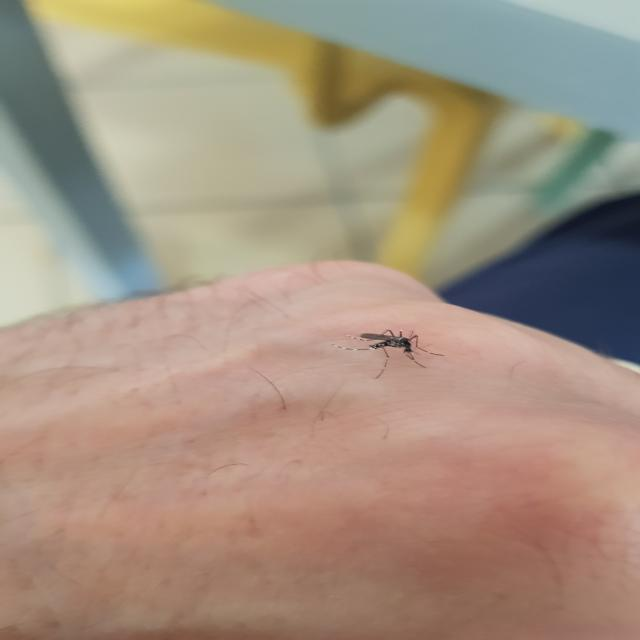albopictus: (332, 322, 449, 380)
